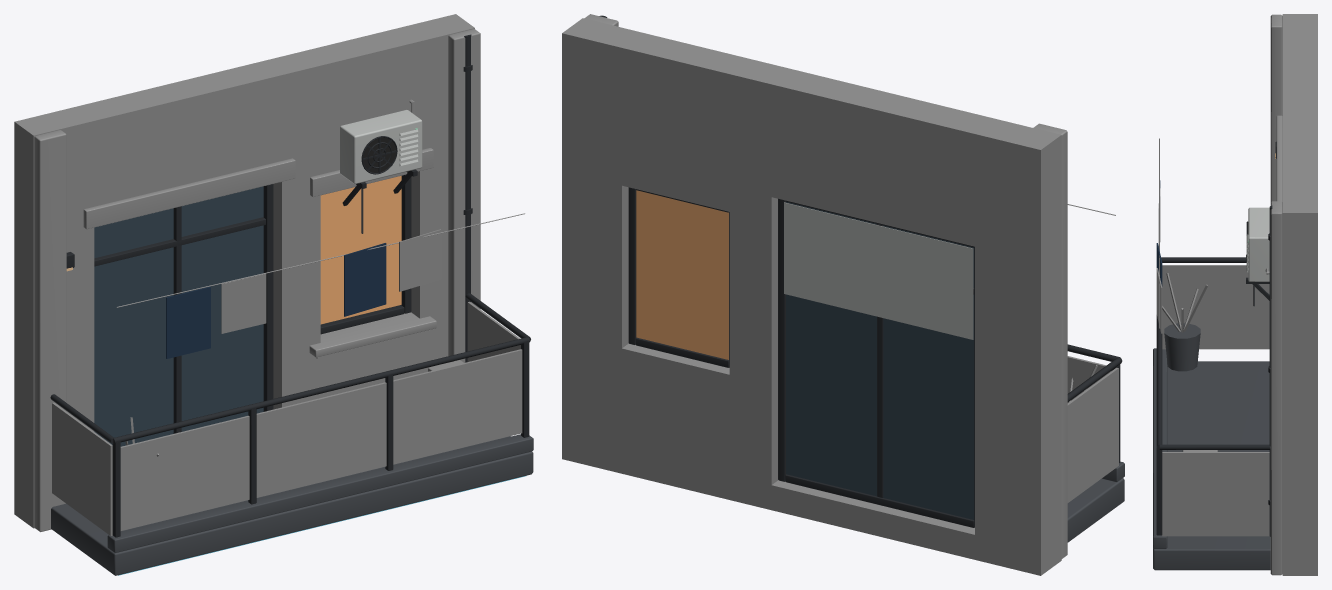
File: Building_Facade_Plaster_Balcony.fbx
3 renders of one model, left to right at view 1: azimuth 30°, elevation 25°; view 2: azimuth 150°, elevation 25°; view 3: azimuth 270°, elevation 25°, orthographic. The views are drawn at different scales.
Visible parts, largest first — view 1: Building_Facade_Plaster_Balcony_LOD0; view 2: Building_Facade_Plaster_Balcony_LOD0; view 3: Building_Facade_Plaster_Balcony_LOD0.
Boxes of the visible parts, x1,y1,x2,y2 form: Building_Facade_Plaster_Balcony_LOD0: (14,14,533,575); Building_Facade_Plaster_Balcony_LOD0: (562,14,1124,575); Building_Facade_Plaster_Balcony_LOD0: (1153,14,1317,575).
Size of what is drawn, in the model's own units: 4 by 3.41 by 1.4.
